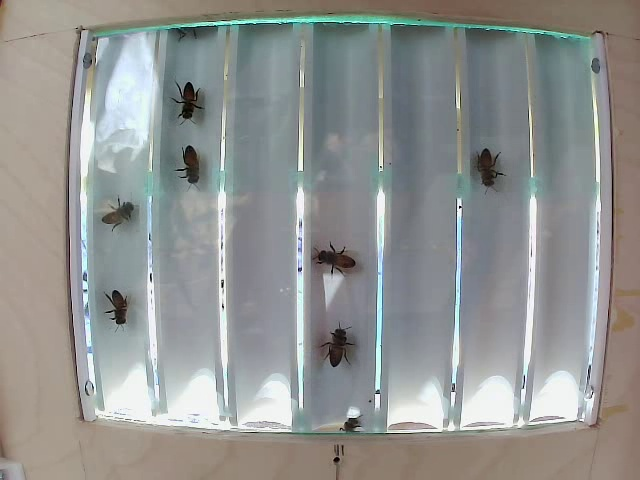bee: (166, 136, 213, 201), (170, 74, 216, 132), (92, 277, 142, 325), (96, 190, 139, 235), (325, 311, 362, 360), (316, 241, 362, 280), (477, 140, 502, 197)
